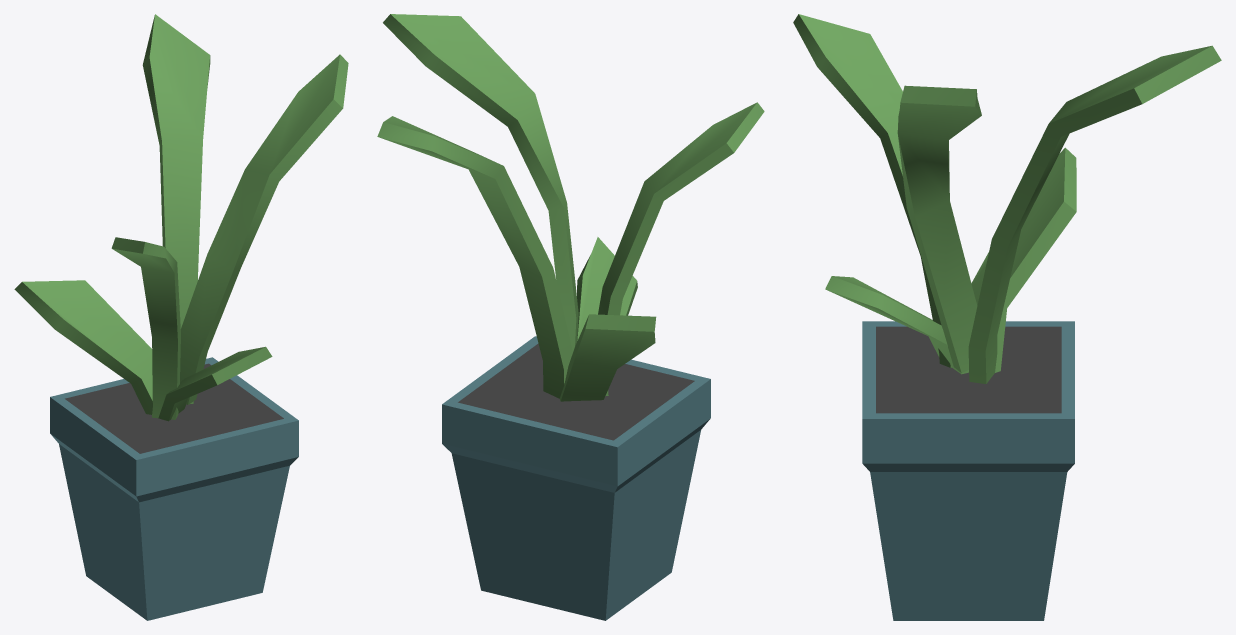
File: SM_Flower_A1.FBX
3 renders of one model, left to right at view 1: azimuth 30°, elevation 25°; view 2: azimuth 150°, elevation 25°; view 3: azimuth 270°, elevation 25°, orthographic. The views are drawn at different scales.
Parts seen in each view (by area): view 1: SM_Flower_A1; view 2: SM_Flower_A1; view 3: SM_Flower_A1.
Boxes of the visible parts, x1,y1,x2,y2 form: SM_Flower_A1: (14,14,348,620); SM_Flower_A1: (377,14,764,620); SM_Flower_A1: (793,14,1221,620).
Size of the model in its own units: 44 by 45.32 by 69.84.
